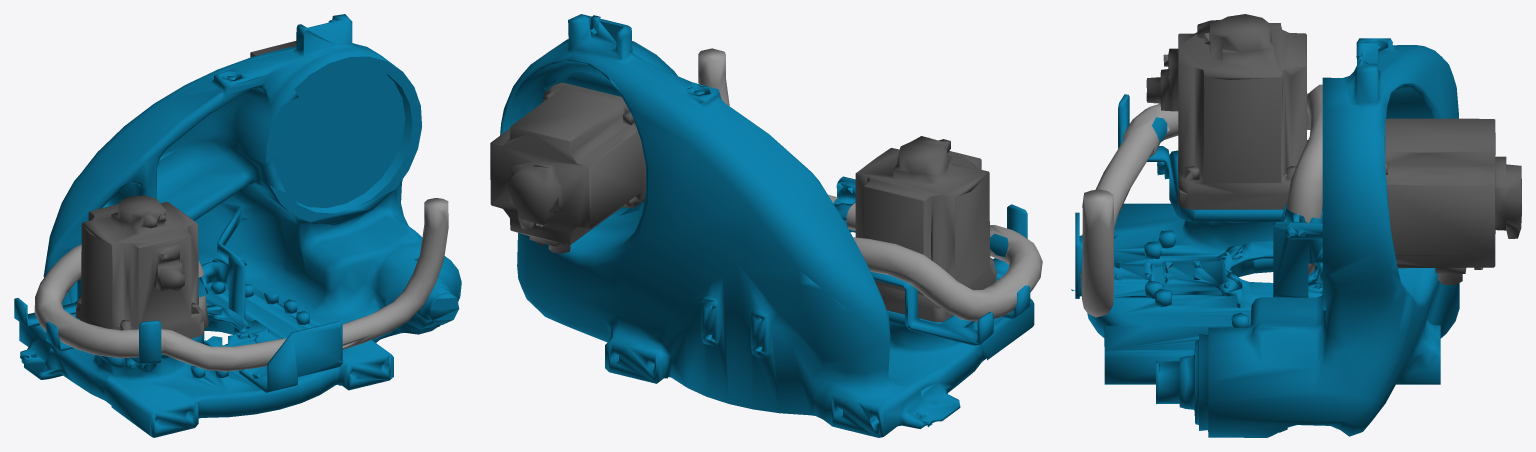
3 renders of one model, left to right at view 1: azimuth 30°, elevation 25°; view 2: azimuth 150°, elevation 25°; view 3: azimuth 270°, elevation 25°, orthographic. The views are drawn at different scales.
Parts seen in each view (by area): view 1: link_1_s; view 2: link_1_s; view 3: link_1_s.
Boxes of the visible parts, bbox=[...] form: link_1_s: bbox=[14, 14, 461, 437]; link_1_s: bbox=[490, 14, 1042, 437]; link_1_s: bbox=[1071, 14, 1521, 437].
Bounding box in the file's own units: 0.8316 × 0.6308 × 0.6023.
